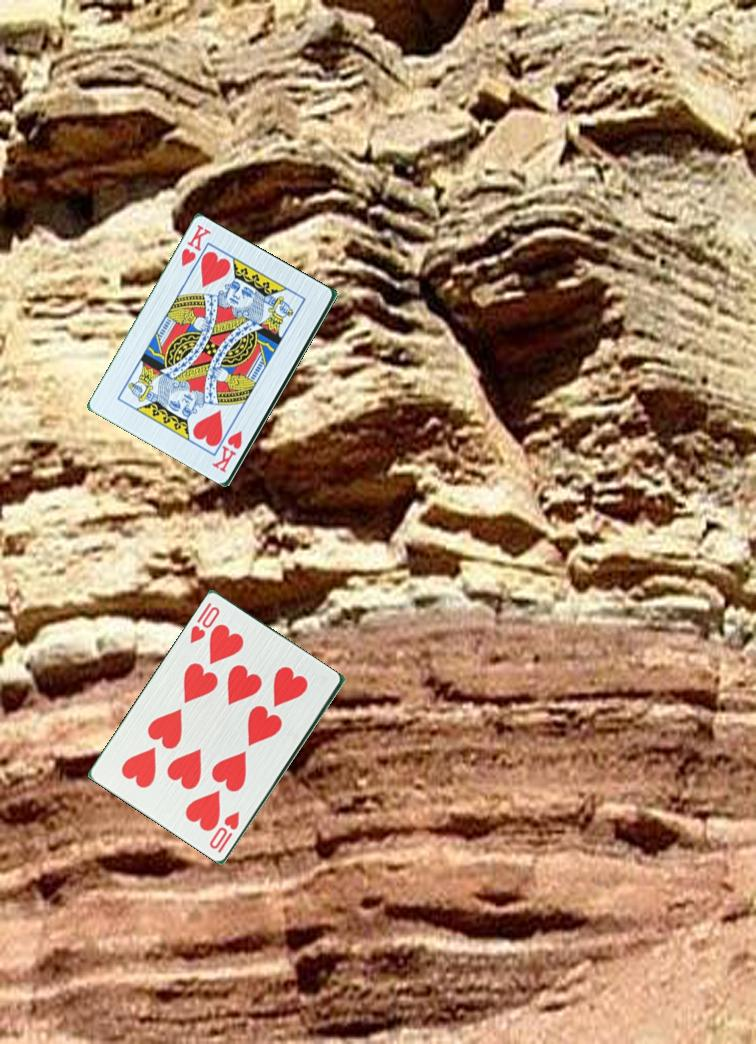kh: (210, 426, 245, 476), (178, 222, 214, 270)
th: (206, 808, 243, 857), (186, 600, 223, 648)
